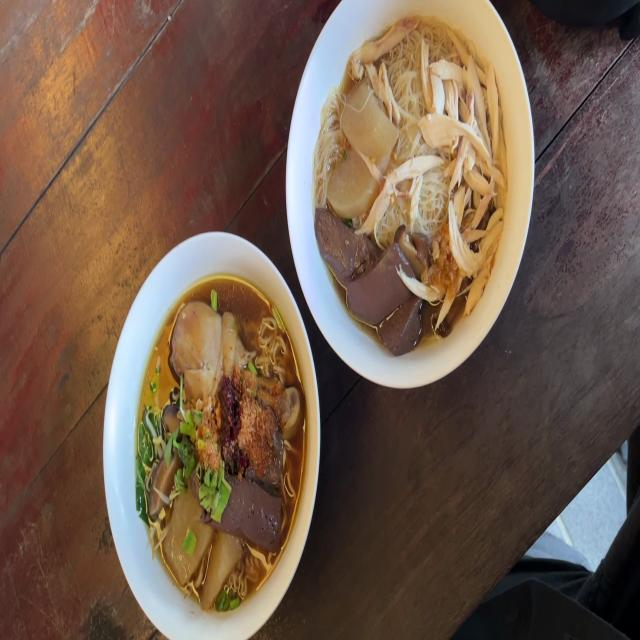boiled_chicken_blood_jelly: (352, 243, 408, 340), (311, 210, 373, 284), (222, 483, 282, 543), (385, 295, 418, 343)
chicken_drumstick: (164, 301, 301, 435)
chicken_shredded: (426, 39, 506, 278), (364, 158, 443, 242), (350, 12, 413, 84)
daikon_radish: (339, 86, 391, 166), (163, 492, 204, 570), (204, 522, 235, 604), (332, 154, 371, 209)
noodle: (314, 9, 506, 348), (134, 275, 310, 626)
